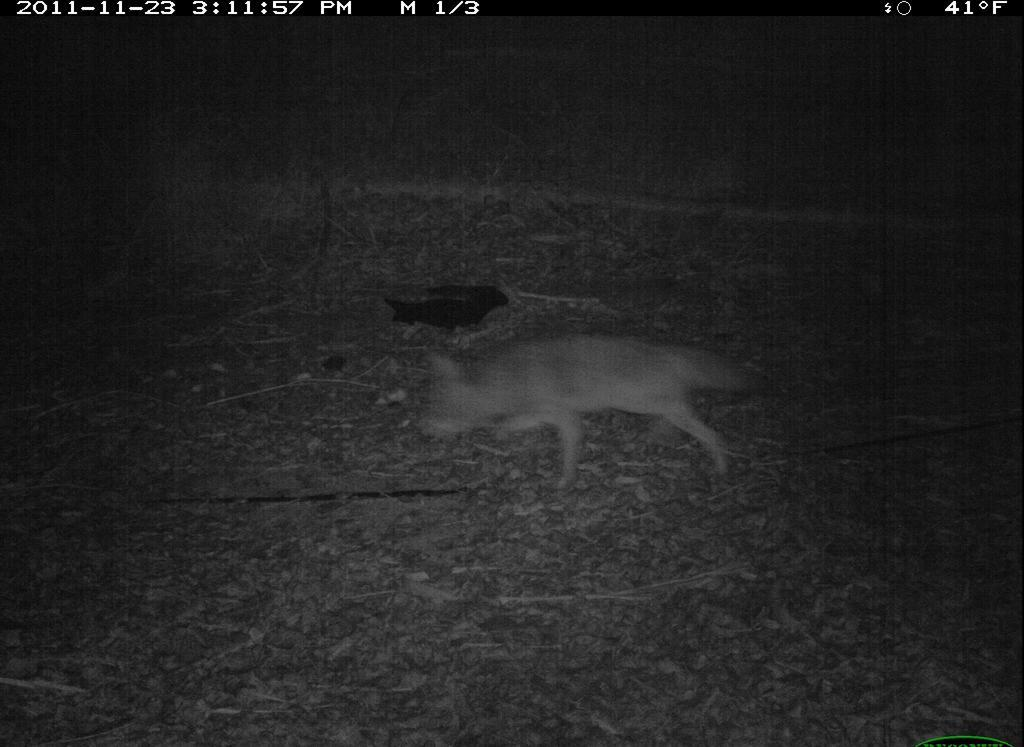coyote: (413, 327, 786, 504)
